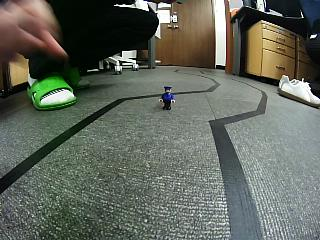person: (158, 86, 175, 111)
